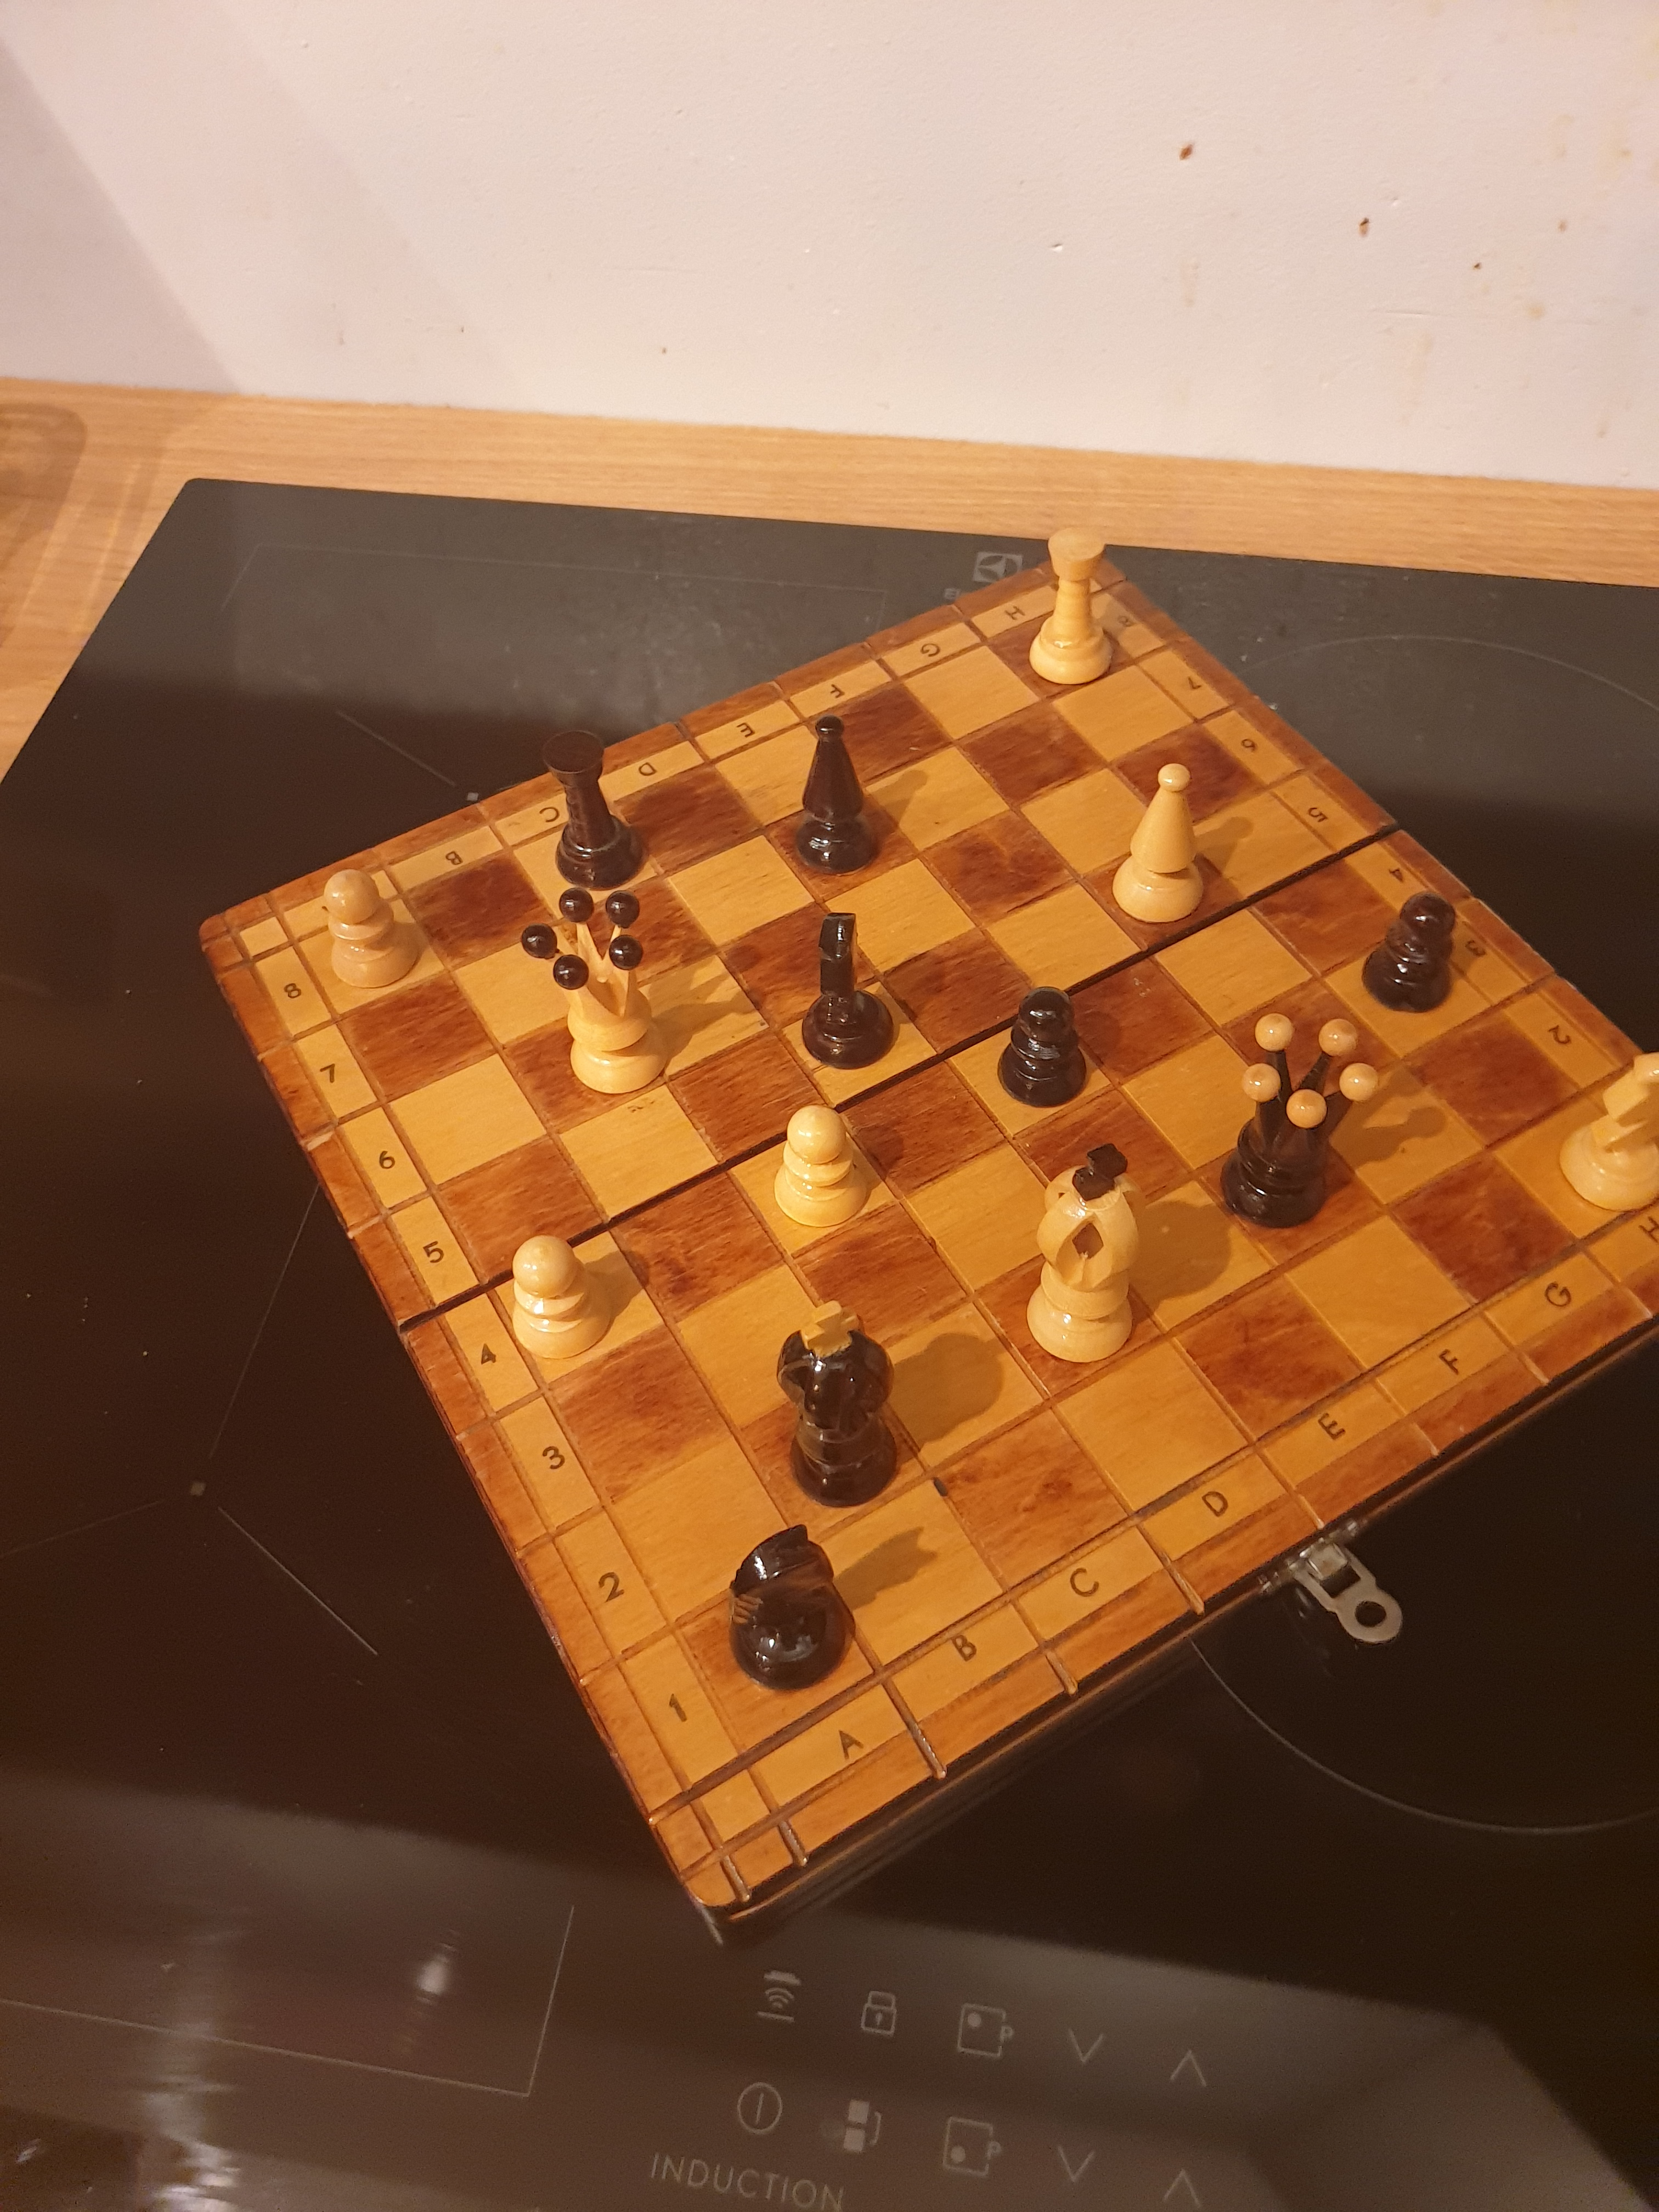bbishop: (779, 707, 897, 900)
bking: (758, 1291, 932, 1529)
bknight: (714, 1508, 871, 1710), (791, 902, 910, 1076)
bpawn: (1354, 876, 1471, 1028), (990, 977, 1101, 1129)
bqueen: (1213, 1001, 1385, 1245)
brook: (535, 712, 648, 906)
wbishop: (1098, 745, 1223, 942)
wking: (1021, 1139, 1154, 1378)
wknight: (1546, 1028, 1659, 1231)
wpawn: (497, 1223, 627, 1378), (762, 1089, 880, 1247), (310, 859, 436, 1005)
wqueen: (519, 881, 678, 1108)
wrook: (1021, 505, 1127, 700)
